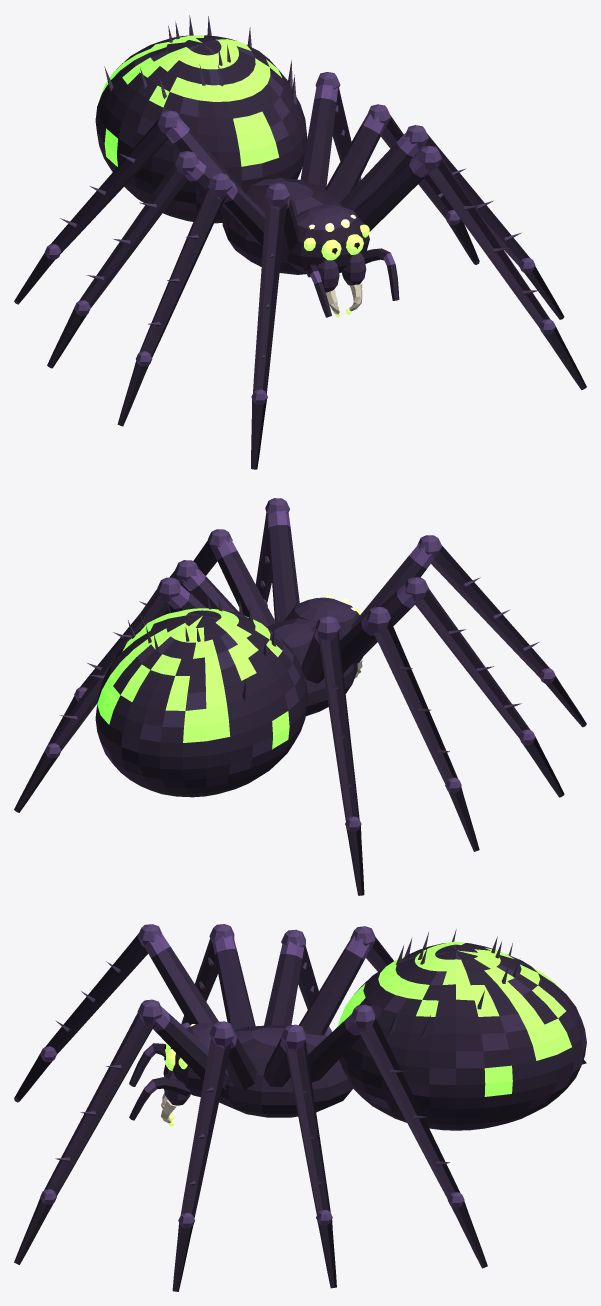
The model's file is spider.glb.
3 renders of one model, top to bottom at view 1: azimuth 30°, elevation 25°; view 2: azimuth 150°, elevation 25°; view 3: azimuth 270°, elevation 25°, orthographic.
Parts seen in each view (by area): view 1: abdomen, body, legR1_b, legL1_b, legL2_b, legL3_b, legL4_b, legR4_a, legR1_a, legR3_a, legR2_a, legR2_b (+10 smaller); view 2: abdomen, body, legL4_b, legL2_b, legL3_b, legL1_b, legR1_a, legR4_b, legR2_a, legL1_a, legL3_a, legR3_a (+11 smaller); view 3: abdomen, body, legR1_b, legR4_b, legR2_b, legR3_b, legL4_a, legL1_a, legL1_b, legL2_a, legL3_a, legR1_a (+11 smaller).
Part boxes in pixels (left/top/right/bottom): abdomen: left=95, top=15, right=307, bottom=223; body: left=222, top=178, right=399, bottom=317; legR1_b: left=427, top=158, right=555, bottom=334; legL1_b: left=251, top=199, right=286, bottom=404; legL2_b: left=136, top=187, right=226, bottom=366; legL3_b: left=74, top=160, right=187, bottom=315; legL4_b: left=45, top=118, right=168, bottom=259; legR4_a: left=300, top=72, right=340, bottom=188; legR1_a: left=353, top=145, right=441, bottom=231; legR3_a: left=325, top=104, right=390, bottom=199; legR2_a: left=340, top=125, right=428, bottom=210; legR2_b: left=417, top=133, right=535, bottom=272; abdomen: left=95, top=596, right=307, bottom=797; body: left=267, top=595, right=362, bottom=716; legL4_b: left=317, top=630, right=361, bottom=831; legL2_b: left=415, top=587, right=535, bottom=744; legL3_b: left=373, top=620, right=461, bottom=792; legL1_b: left=431, top=545, right=555, bottom=683; legR1_a: left=265, top=498, right=299, bottom=622; legR4_b: left=45, top=588, right=170, bottom=758; legR2_a: left=208, top=529, right=275, bottom=626; legL1_a: left=351, top=535, right=441, bottom=629; legL3_a: left=340, top=606, right=390, bottom=673; legR3_a: left=175, top=560, right=239, bottom=613; abdomen: left=337, top=929, right=586, bottom=1130; body: left=129, top=1022, right=353, bottom=1126; legR1_b: left=40, top=1012, right=155, bottom=1204; legR4_b: left=359, top=1017, right=464, bottom=1207; legR2_b: left=178, top=1037, right=231, bottom=1228; legR3_b: left=284, top=1040, right=332, bottom=1225; legL4_a: left=298, top=926, right=375, bottom=1034; legL1_a: left=137, top=924, right=218, bottom=1025; legL1_b: left=40, top=933, right=147, bottom=1061; legL2_a: left=209, top=924, right=255, bottom=1030; legL3_a: left=264, top=929, right=305, bottom=1026; legR1_a: left=137, top=999, right=228, bottom=1099.
Size of the model in its own units: 8.01 by 4.06 by 8.75.
Materials: 1 (1 with a texture image).
